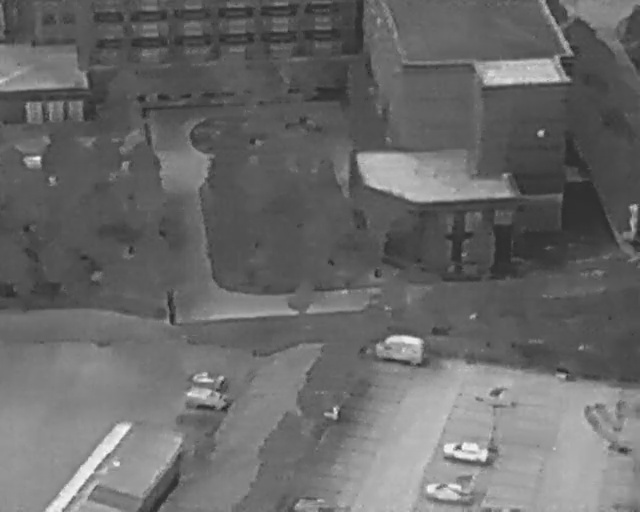Car: (374, 333, 426, 365), (182, 384, 235, 415), (441, 437, 490, 467), (425, 483, 468, 504)
